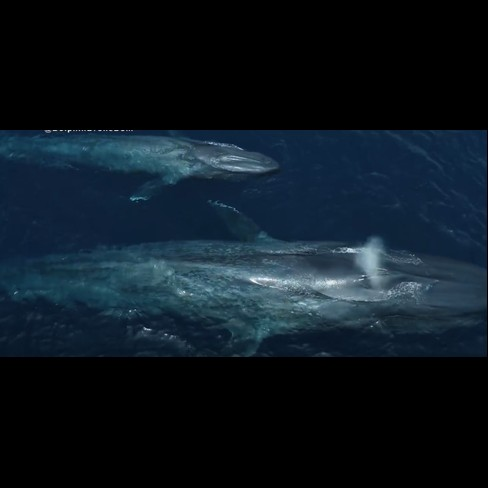bluewhale: (1, 196, 487, 359), (1, 131, 288, 204)
